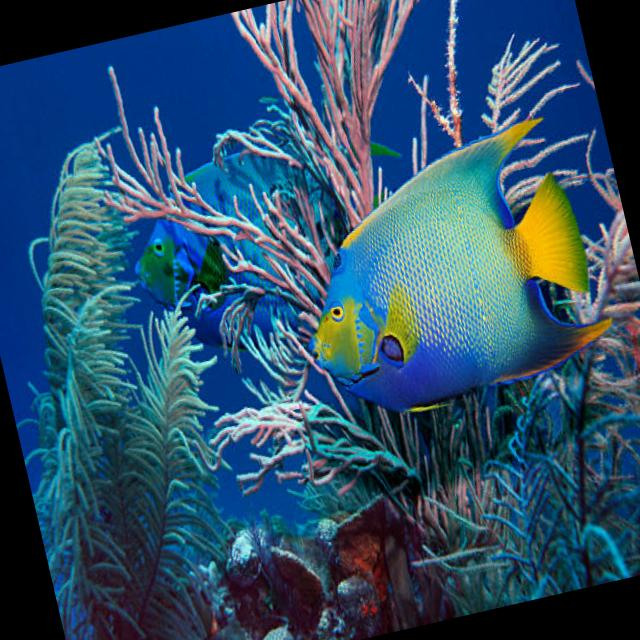AngelFish: (273, 113, 617, 416)
